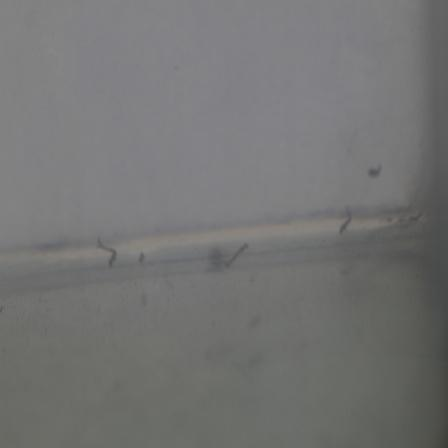Jentik-Nyamuk: (94, 233, 120, 270), (222, 239, 250, 269), (334, 206, 355, 236), (365, 162, 382, 182)
